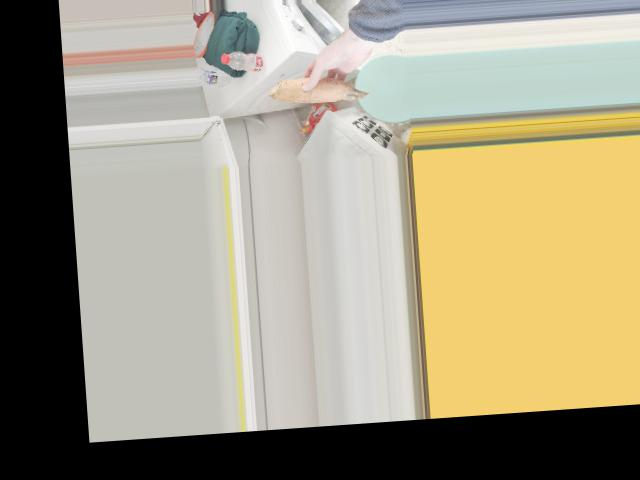sweet_potato: (275, 69, 362, 107)
